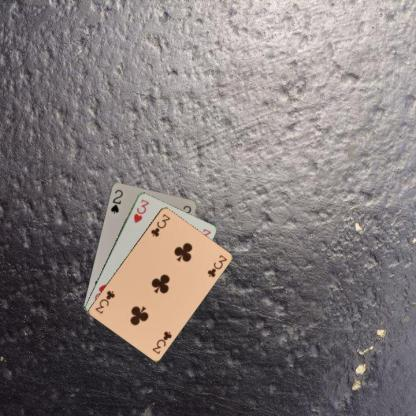2s: (108, 187, 124, 215)
3c: (150, 328, 173, 356), (148, 212, 171, 238)
3h: (131, 196, 150, 224)
